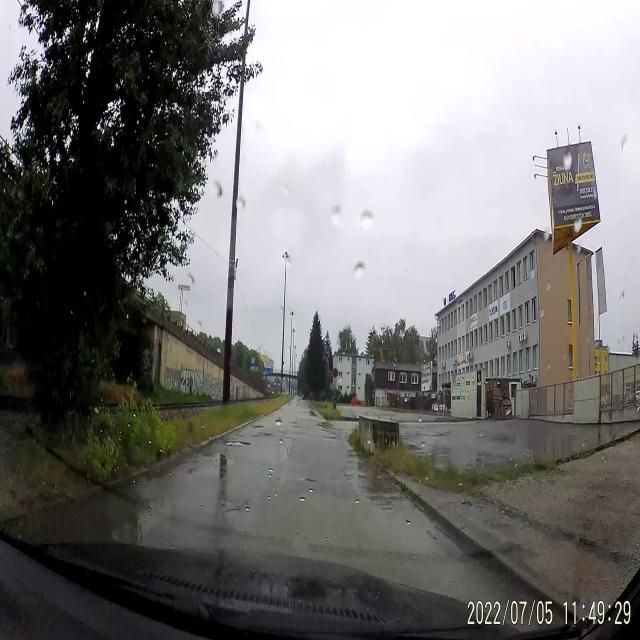Pothole: (340, 452, 403, 515), (225, 435, 251, 452), (254, 431, 274, 441), (253, 423, 269, 429)
